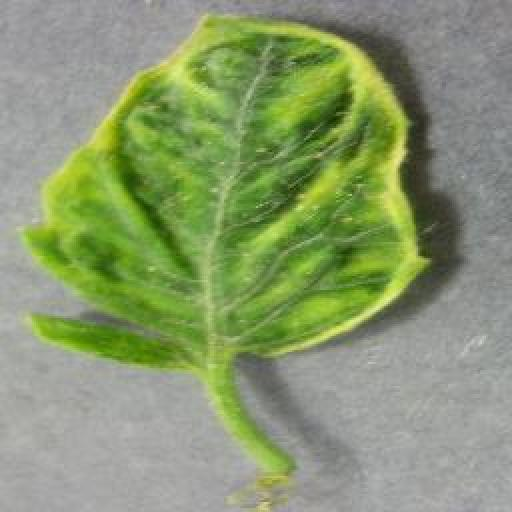Yellow Leaf Curl Virus: (21, 13, 431, 371)
